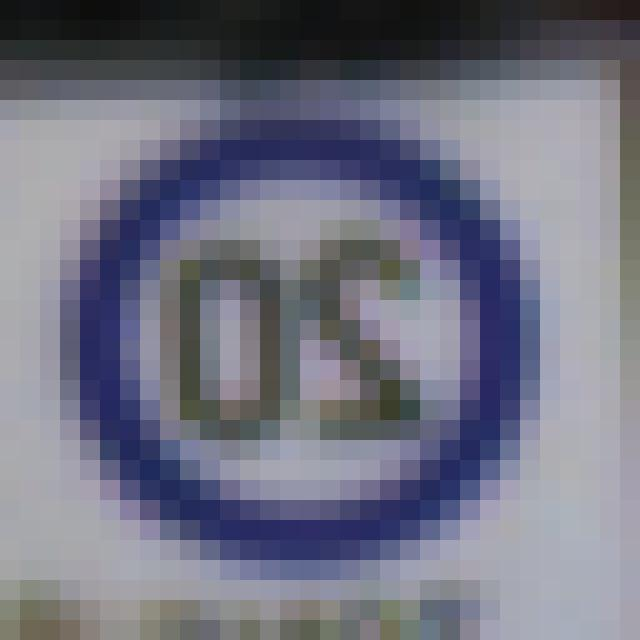SPEED LIMIT 20: (54, 109, 542, 571)
